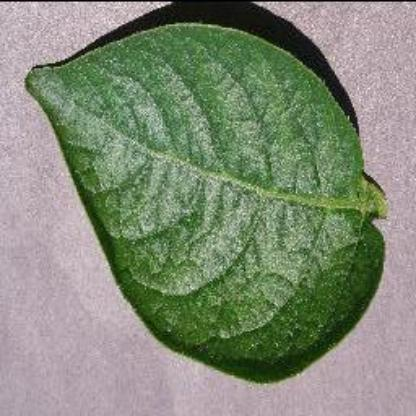Healthy-plant: (19, 18, 409, 388)
